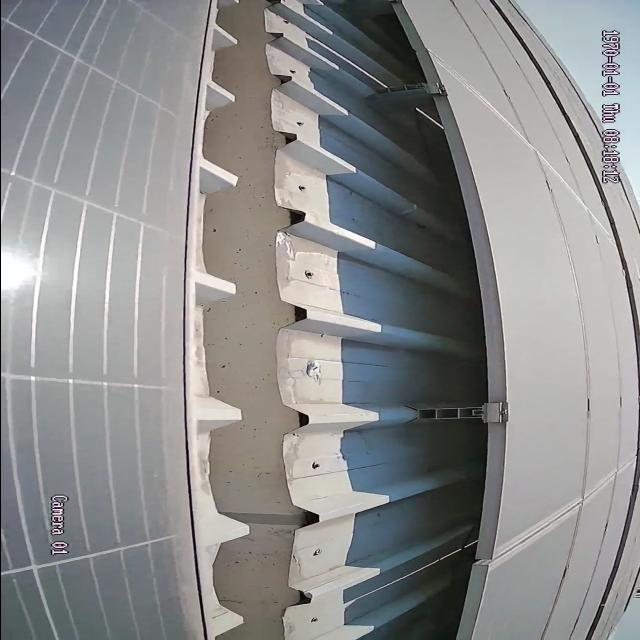interior panel: (432, 48, 613, 252), (493, 447, 636, 574)
outher panel: (179, 1, 494, 638)
